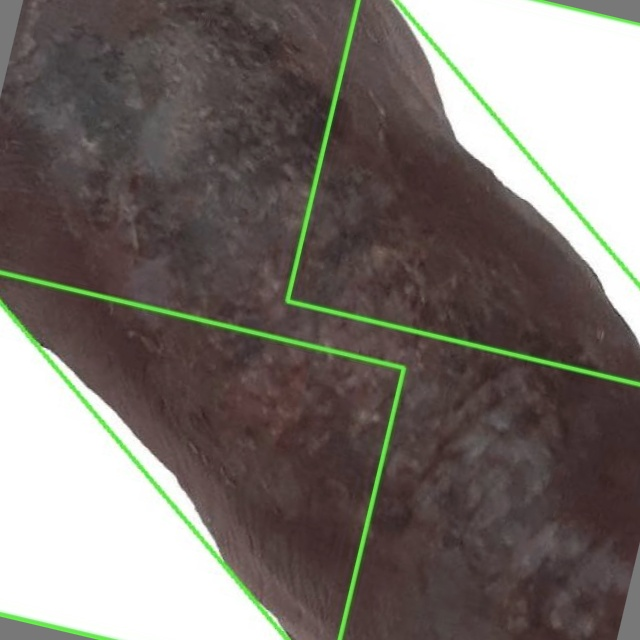Contact Dermatitis: (0, 0, 639, 639), (0, 273, 404, 639), (286, 0, 639, 385)
